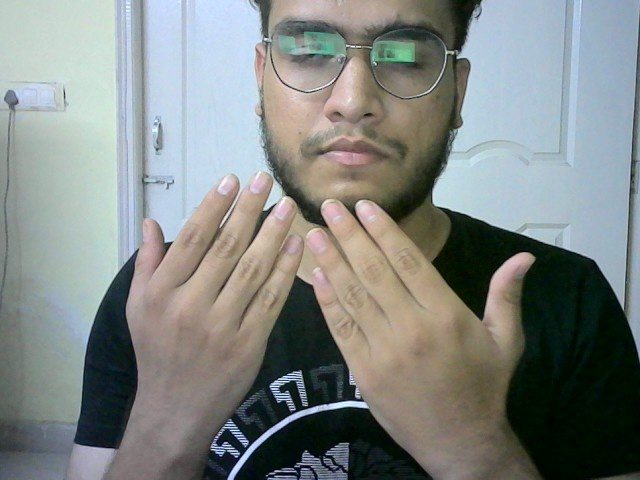Thank You: (124, 168, 543, 423)
